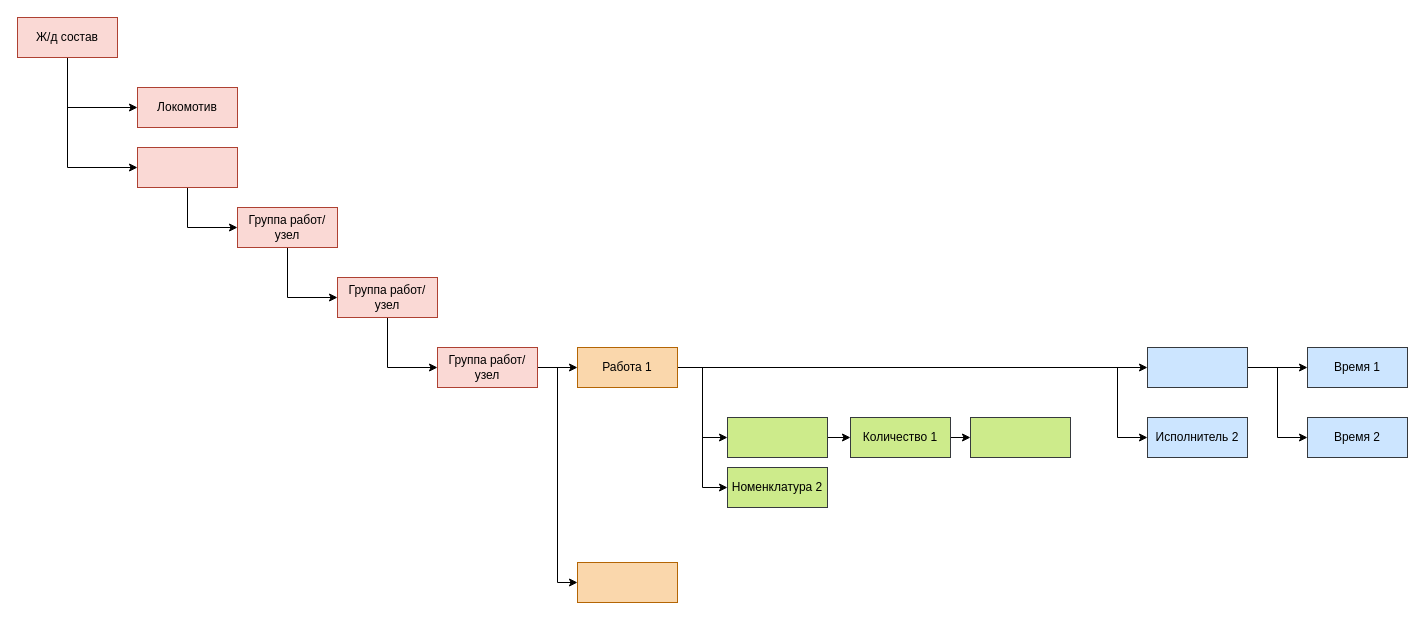
Image size: 1425x620. Some labels were removed from this diagram. Each missing label, with the centre of its shape:
Вагон: (187,167)
Ед.измерения: (1020,437)
Исполнитель 1: (1197,367)
Номенклатура 1: (777,437)
Работа 2: (627,582)
